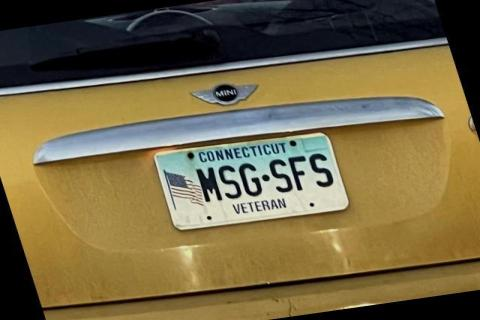LicensePlate: (148, 129, 349, 231)
